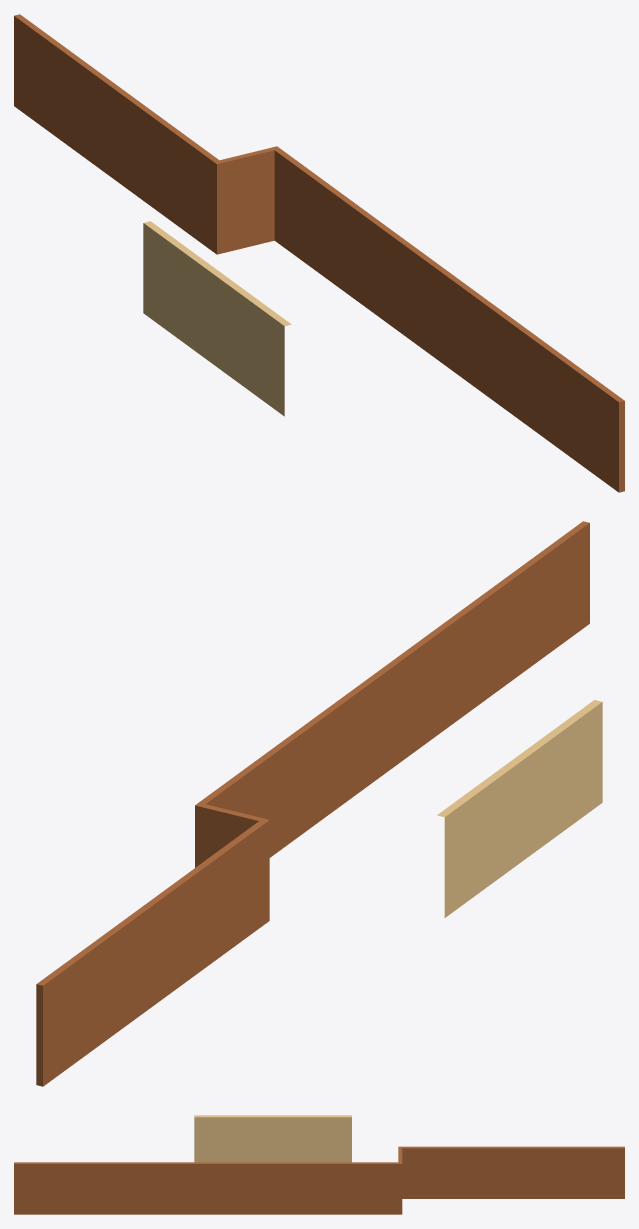
The model's file is kitchen_bot.dae.
3 views of the same model, one above another, from view 1: azimuth 30°, elevation 25°; view 2: azimuth 150°, elevation 25°; view 3: azimuth 270°, elevation 25° (orthographic). The views are drawn at different scales.
Visible parts, largest first — view 1: group_1, group_0, R1_8, group_2; view 2: group_1, group_0, R1_8, group_2; view 3: group_1, group_0, R1_8.
Part boxes in pixels (x1,y1,x2,y2): group_1: (271,146,624,492); group_0: (14,14,222,254); R1_8: (143,221,291,416); group_2: (220,148,274,252); group_1: (195,521,589,867); group_0: (36,818,269,1086); R1_8: (437,700,602,917); group_2: (201,804,262,862); group_1: (14,1162,402,1214); group_0: (398,1146,624,1198); R1_8: (194,1115,351,1162).
Size of the model in its own units: 18.62 by 98.75 by 9.
